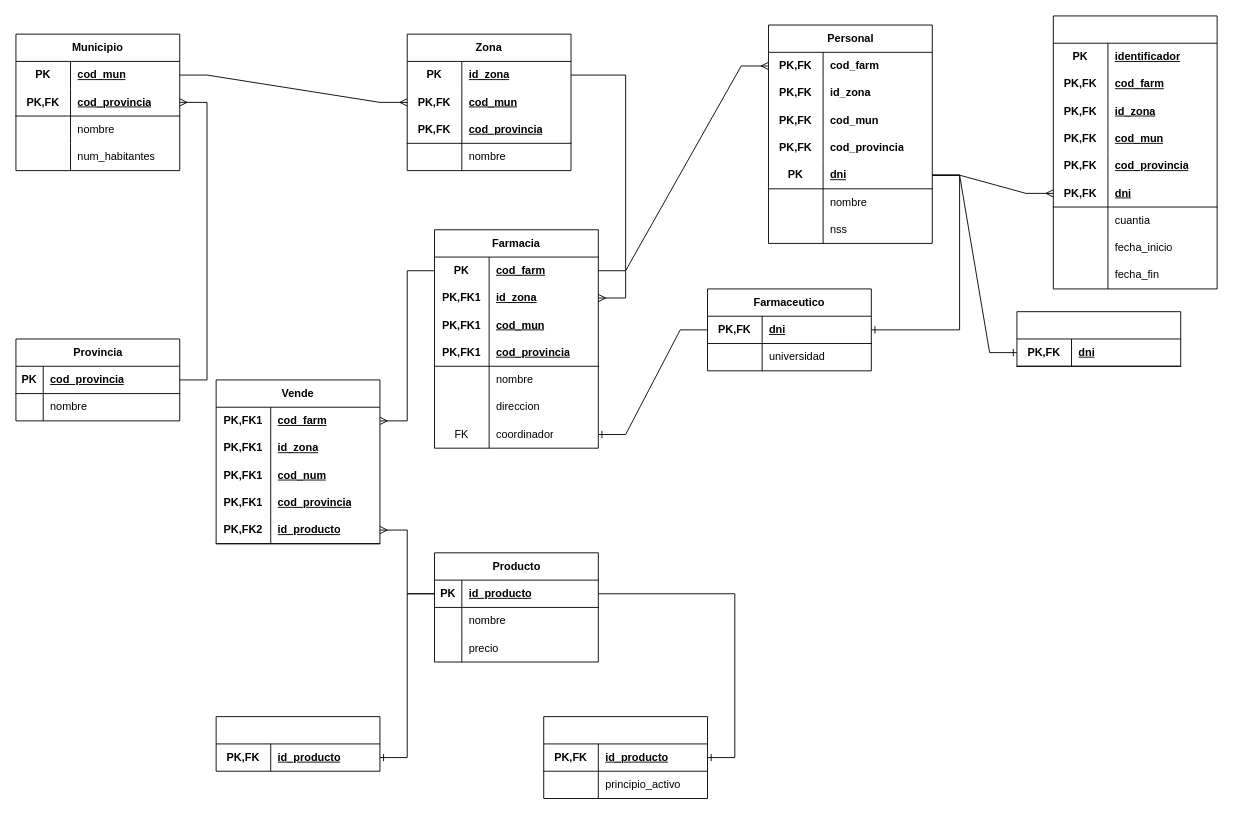
The diagram is 1233 pixels wide and 814 high, and some of its shapes have lost their labels. Here are the shapes that lost their labels. From the top down, the box of each, then its label:
(1052, 15, 1217, 289): Sueldo
(1016, 311, 1181, 366): Tecnico
(215, 716, 380, 771): Parafarmacia
(543, 716, 708, 799): Medicamento
